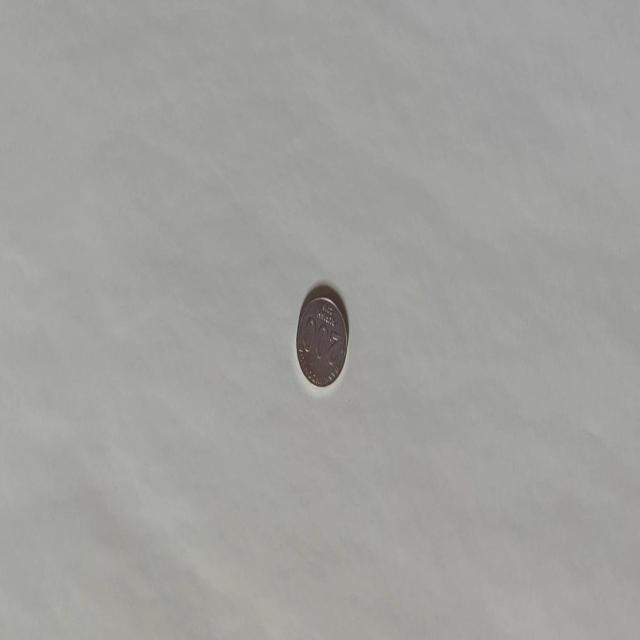dua ratus rupiah: (295, 294, 348, 388)
